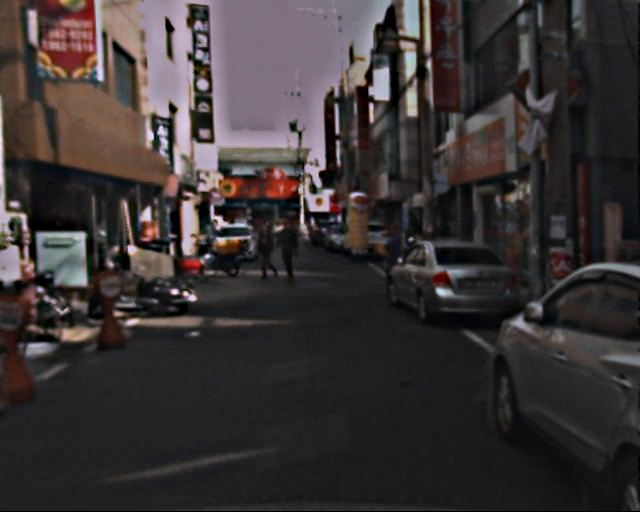person: (276, 214, 304, 288), (379, 220, 406, 296), (257, 216, 280, 280)
